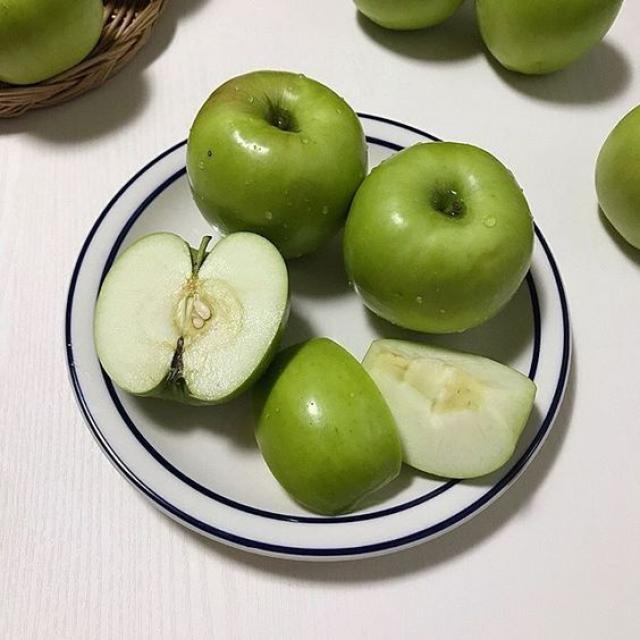apple: (344, 142, 533, 333), (187, 71, 366, 257), (95, 233, 288, 403), (256, 339, 401, 515), (364, 340, 535, 478), (476, 0, 622, 73), (0, 0, 103, 85), (595, 106, 639, 248), (355, 0, 462, 30)
